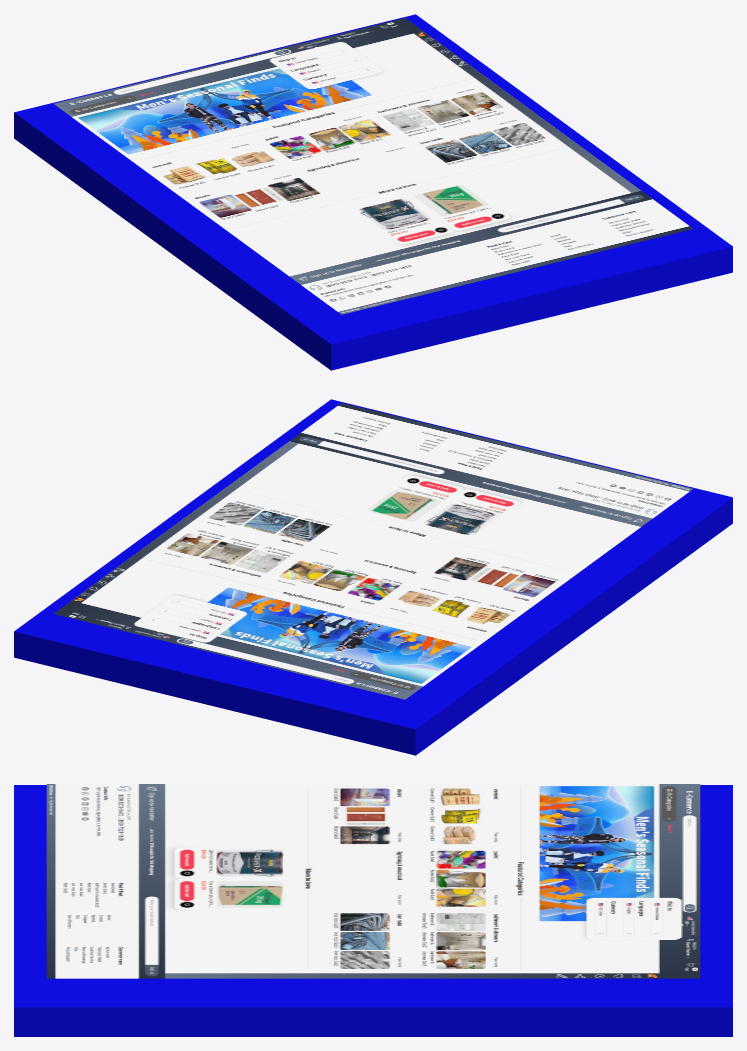
The picture shows the model from 3 angles, top to bottom: view 1: azimuth 30°, elevation 25°; view 2: azimuth 150°, elevation 25°; view 3: azimuth 270°, elevation 25°; orthographic projection. The views are drawn at different scales.
Parts seen in each view (by area): view 1: PhotoPlane, PhotoBorder; view 2: PhotoPlane, PhotoBorder; view 3: PhotoPlane, PhotoBorder.
Boxes of the visible parts, <box> form: PhotoPlane: <box>53,18,692,314</box>; PhotoBorder: <box>14,14,732,370</box>; PhotoPlane: <box>54,403,693,699</box>; PhotoBorder: <box>14,399,732,755</box>; PhotoPlane: <box>46,784,700,978</box>; PhotoBorder: <box>14,785,732,1036</box>.
Size of the model in its own units: 8.05 by 0.75 by 11.
Materials: 2 (1 with a texture image).
